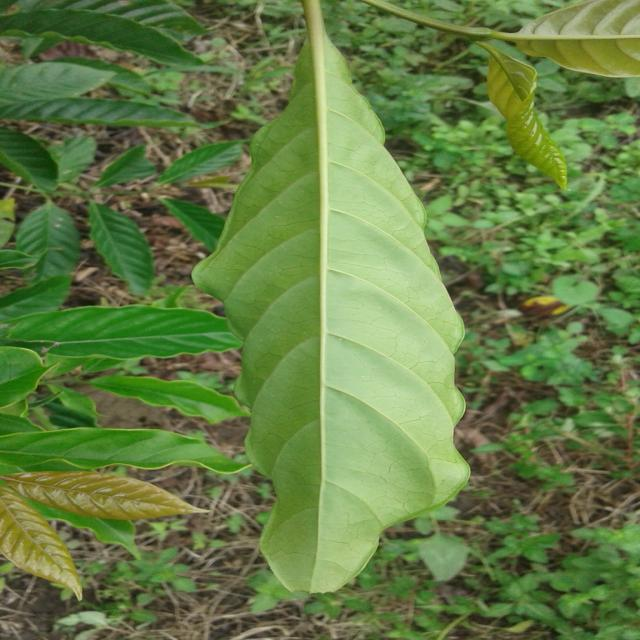Sanas: (191, 0, 471, 599)
